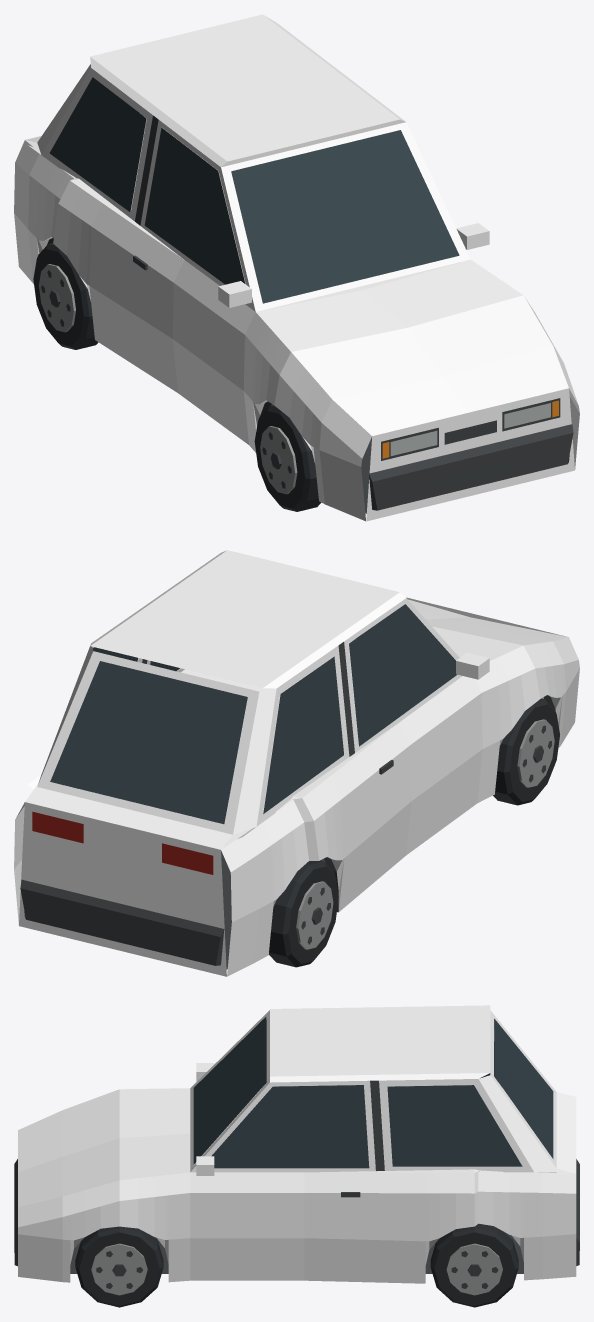
The model's file is morel_bruyere.glb.
3 renders of one model, top to bottom at view 1: azimuth 30°, elevation 25°; view 2: azimuth 150°, elevation 25°; view 3: azimuth 270°, elevation 25°, orthographic. The views are drawn at different scales.
Visible parts, largest first — view 1: morel_bruyere; view 2: morel_bruyere; view 3: morel_bruyere.
Boxes of the visible parts, left/top/right/bottom form: morel_bruyere: left=14, top=14, right=579, bottom=521; morel_bruyere: left=14, top=550, right=579, bottom=976; morel_bruyere: left=14, top=1005, right=579, bottom=1307.
Bounding box in the file's own units: 1.65 × 1.62 × 3.79.
Materials: 8 (1 with a texture image).
